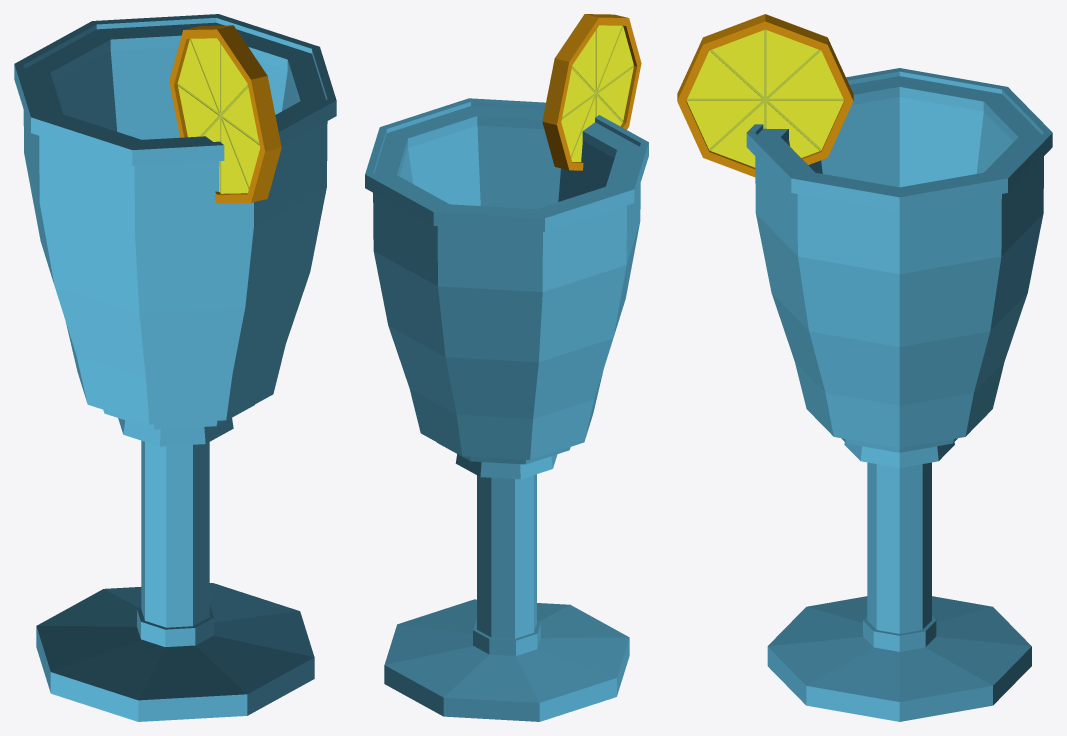
The model's file is Cocktail Glass 1.fbx.
The picture shows the model from 3 angles, left to right: view 1: azimuth 30°, elevation 25°; view 2: azimuth 150°, elevation 25°; view 3: azimuth 270°, elevation 25°; orthographic projection. The views are drawn at different scales.
Parts seen in each view (by area): view 1: Node 0; view 2: Node 0; view 3: Node 0.
Part boxes in pixels (bbox=[...]): Node 0: bbox=[14, 14, 336, 721]; Node 0: bbox=[365, 14, 648, 721]; Node 0: bbox=[677, 14, 1052, 721].
Bounding box in the file's own units: 0.164 × 0.3074 × 0.1337.
